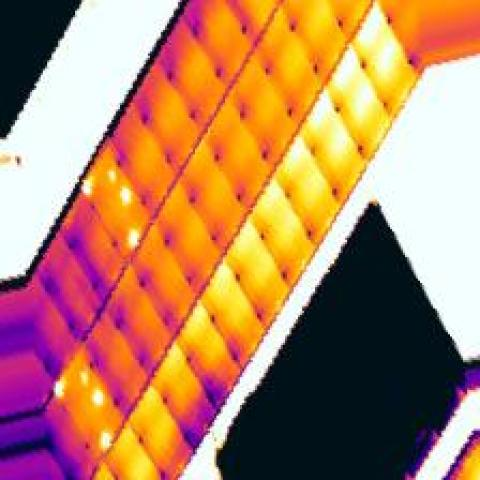fault: (77, 176, 101, 201), (114, 184, 137, 210), (122, 225, 142, 253), (94, 426, 114, 454), (51, 377, 71, 403), (75, 366, 92, 388), (90, 384, 105, 407), (103, 165, 120, 184)
